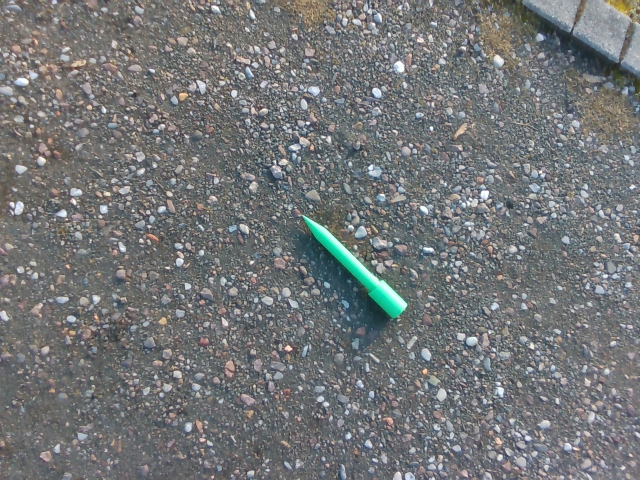Probe: (298, 204, 413, 324)
